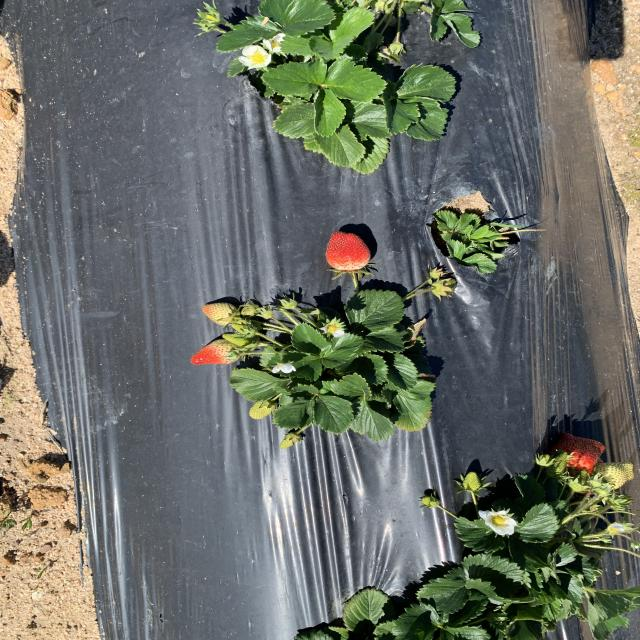unripe: (556, 432, 606, 473), (326, 231, 372, 273), (188, 338, 251, 365)
